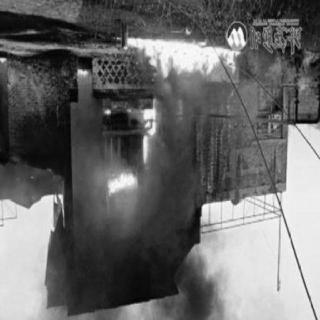Fire: (84, 39, 243, 159), (96, 172, 140, 210), (1, 53, 17, 75)
